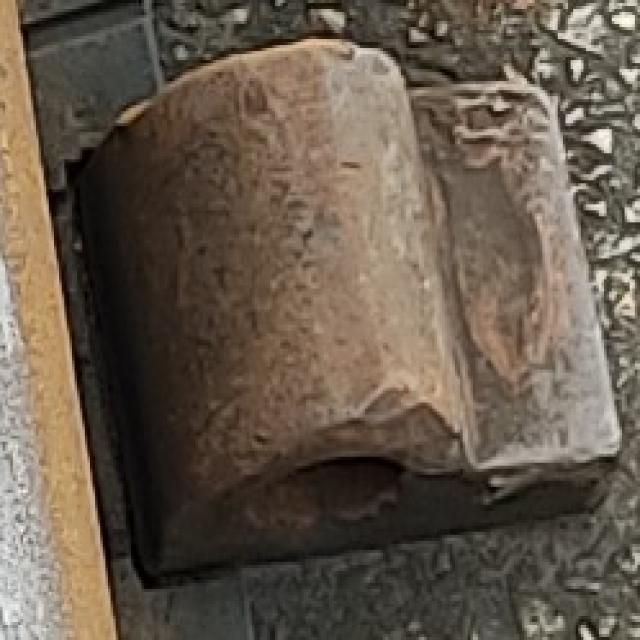track_bolt_missing: (106, 33, 482, 541)
